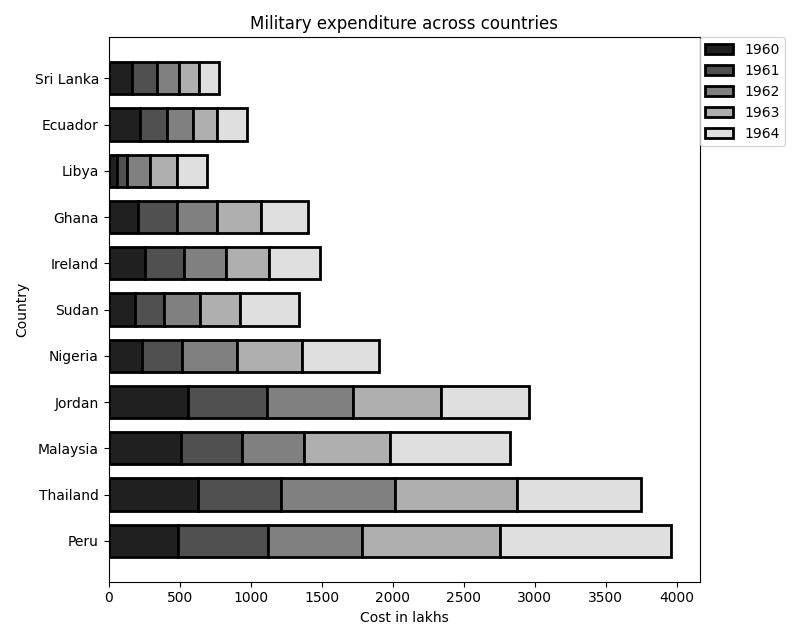canvas: (108, 44, 687, 572)
legend: (703, 39, 783, 143)
title: (244, 6, 564, 34)
x-axis: (105, 578, 711, 589)
x-labels: (99, 588, 701, 607)
x-title: (352, 607, 452, 629)
y-axis: (102, 30, 116, 589)
y-labels: (31, 66, 101, 556)
y-title: (11, 274, 31, 349)
